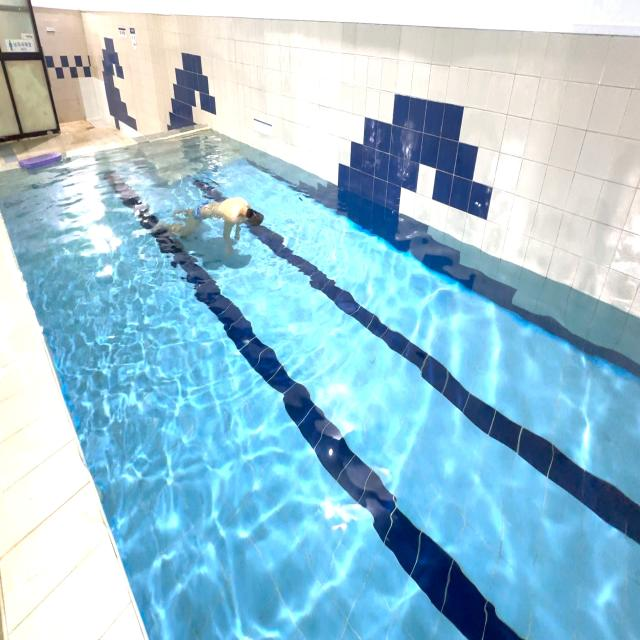Drowning: (161, 170, 270, 266)
